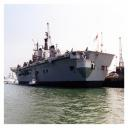Portanaves: (9, 22, 117, 91)
